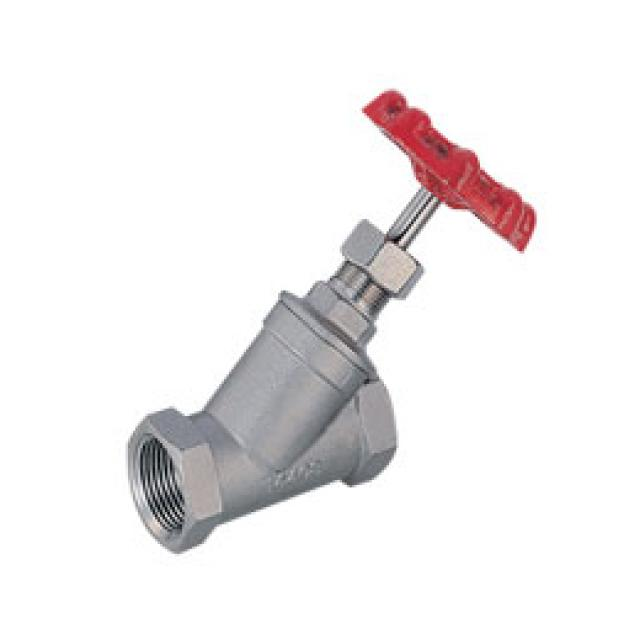Wheel Handle Valve Threaded: (346, 74, 566, 260)
